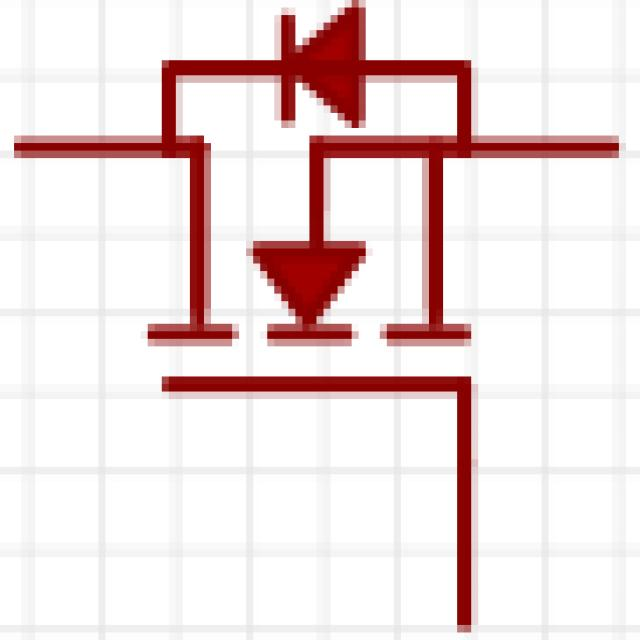nmos: (28, 0, 626, 623)
